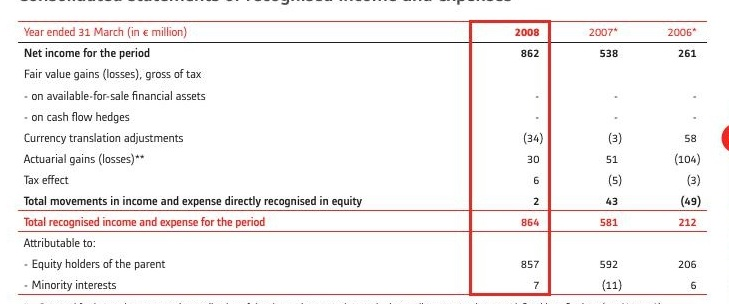table: (0, 0, 729, 304)
